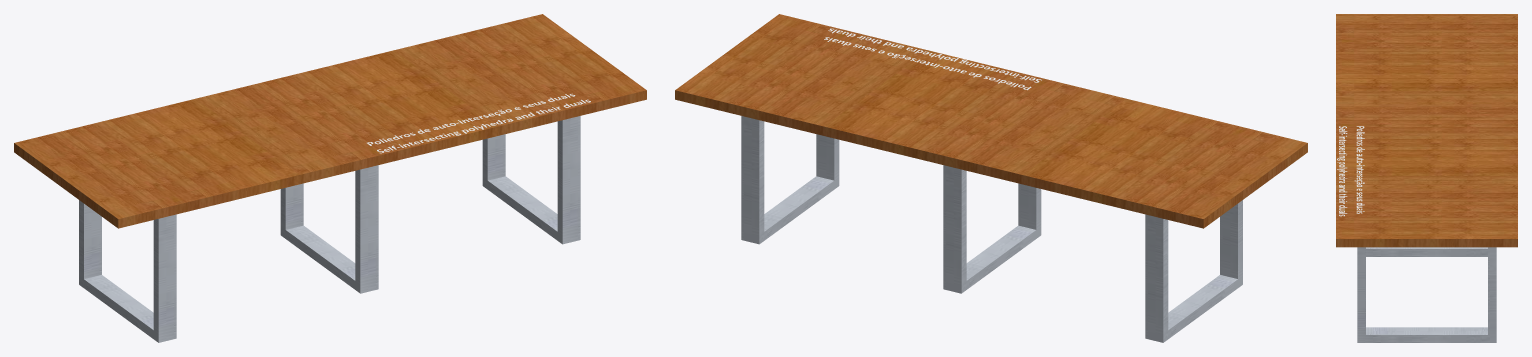
The model's file is mesa_selfIntersect8.glb.
3 renders of one model, left to right at view 1: azimuth 30°, elevation 25°; view 2: azimuth 150°, elevation 25°; view 3: azimuth 270°, elevation 25°, orthographic. The views are drawn at different scales.
Visible parts, largest first — view 1: object 1, Composant#1 (×3), Poliedros de aut#1; view 2: object 1, Composant#1 (×3), Poliedros de aut#1; view 3: object 1, Composant#1 (×2), Poliedros de aut#1.
Part boxes in pixels (x1,y1,x2,y2): object 1: [14, 14, 646, 228]; Composant#1 (×3): [79, 116, 580, 342]; Poliedros de aut#1: [367, 93, 590, 153]; object 1: [675, 14, 1307, 228]; Composant#1 (×3): [741, 116, 1242, 342]; Poliedros de aut#1: [824, 28, 1041, 90]; object 1: [1336, 14, 1517, 247]; Composant#1 (×2): [1357, 247, 1496, 342]; Poliedros de aut#1: [1337, 126, 1364, 216].
Bounding box in the file's own units: 2.93 × 0.7711 × 1.
Materials: 3 (2 with a texture image).
